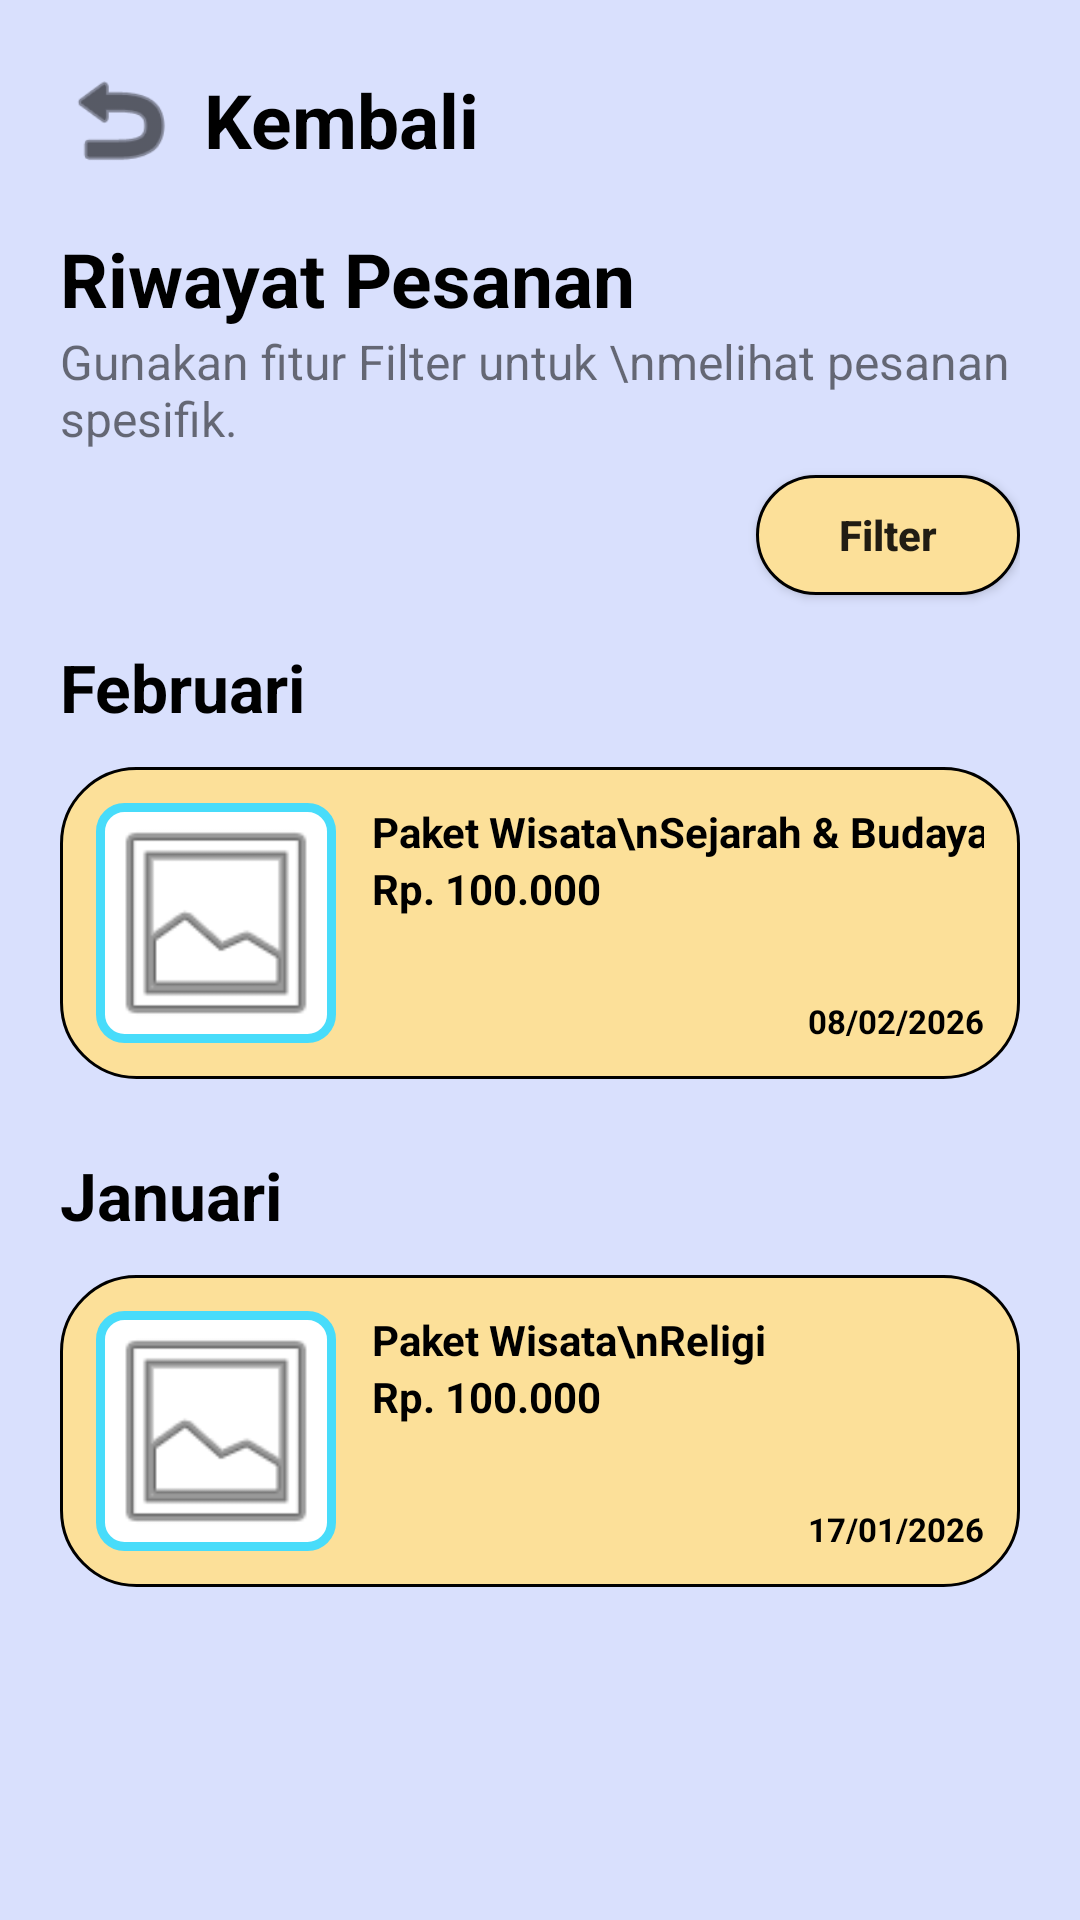

Screen size 1080 x 1920. Icon name, then its center in pixels as [x,y]:
gallery: [216,923], [216,1431]
revert: [121,120]
